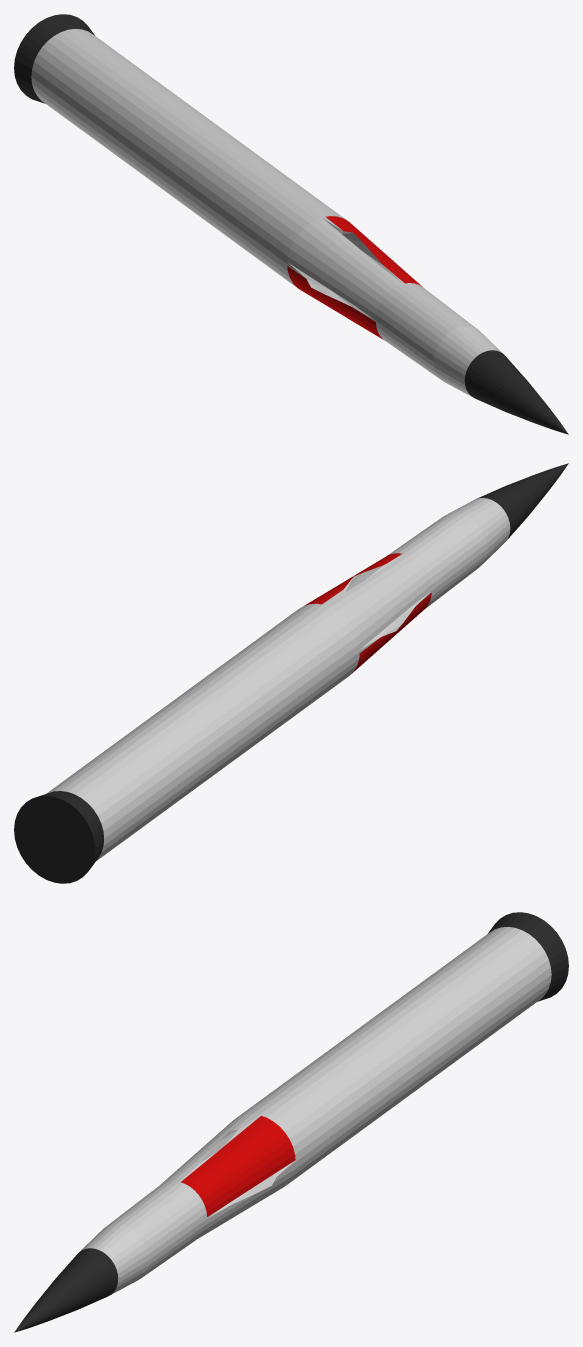
File: Interceptor_THAAD.obj
The picture shows the model from 3 angles, top to bottom: view 1: azimuth 30°, elevation 25°; view 2: azimuth 150°, elevation 25°; view 3: azimuth 330°, elevation 25°; orthographic projection.
Visible parts, largest first — view 1: THAADミサイル; view 2: THAADミサイル; view 3: THAADミサイル.
Part boxes in pixels (left/top/right/bottom): THAADミサイル: left=14, top=14, right=568, bottom=434; THAADミサイル: left=14, top=463, right=568, bottom=883; THAADミサイル: left=14, top=912, right=568, bottom=1332.
Size of the model in its own units: 0.6086 by 0.6033 by 6.36.
